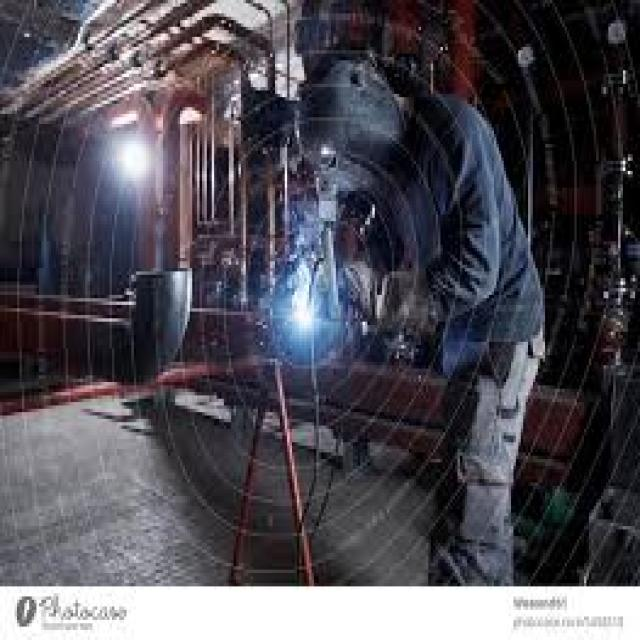welding: (291, 302, 314, 332)
